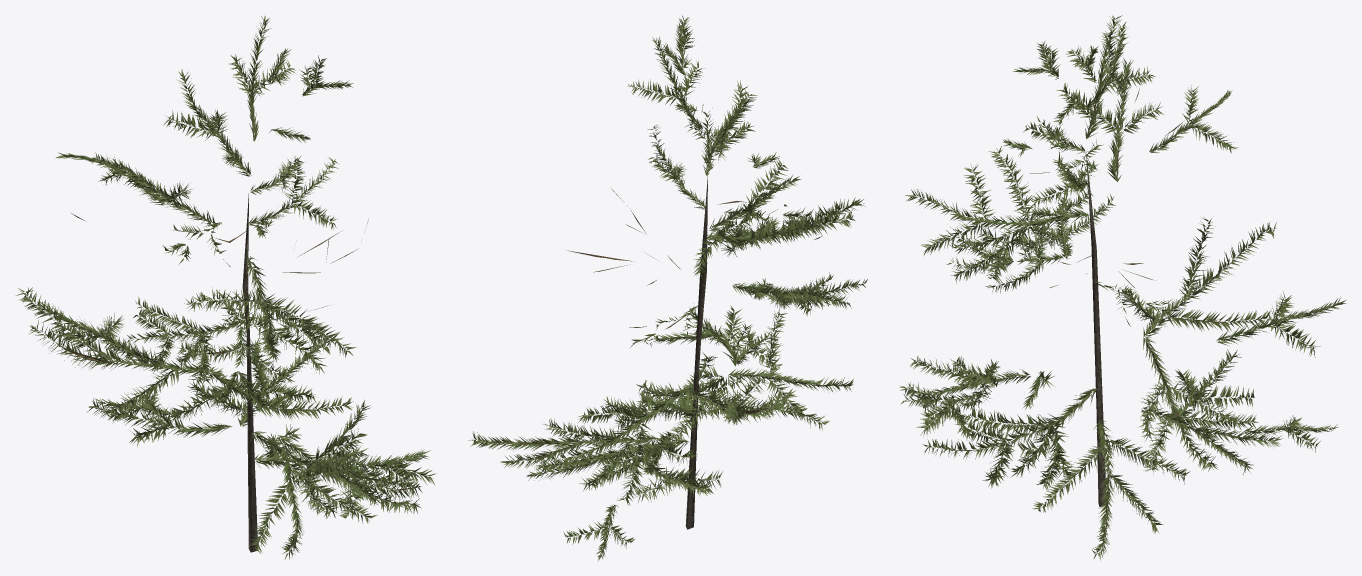
Rendered from fir_sapling.glb.
3 renders of one model, left to right at view 1: azimuth 30°, elevation 25°; view 2: azimuth 150°, elevation 25°; view 3: azimuth 270°, elevation 25°, orthographic. The views are drawn at different scales.
Visible parts, largest first — view 1: fir_sapling_b; view 2: fir_sapling_b; view 3: fir_sapling_b.
Part boxes in pixels (x1,y1,x2,y2): fir_sapling_b: (15, 16, 435, 559); fir_sapling_b: (468, 15, 867, 560); fir_sapling_b: (899, 15, 1346, 560).
Bounding box in the file's own units: 0.6404 × 0.9529 × 0.7876.
Materials: 2 (2 with a texture image).
